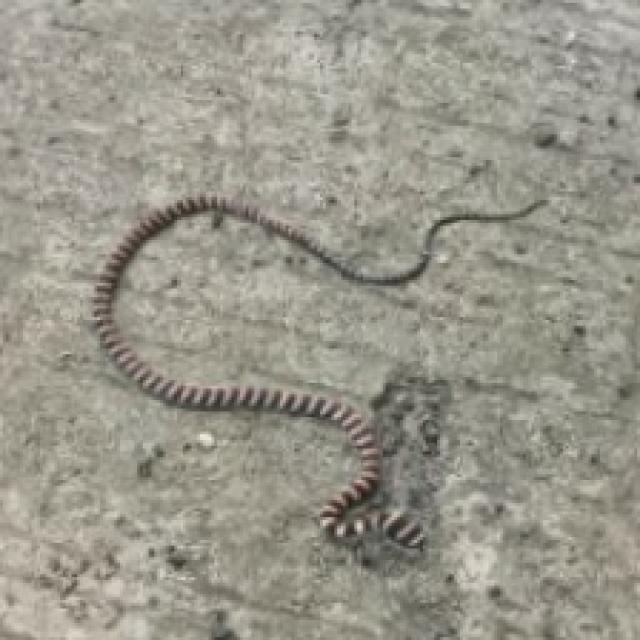paradise tree snake: (91, 194, 543, 546)
